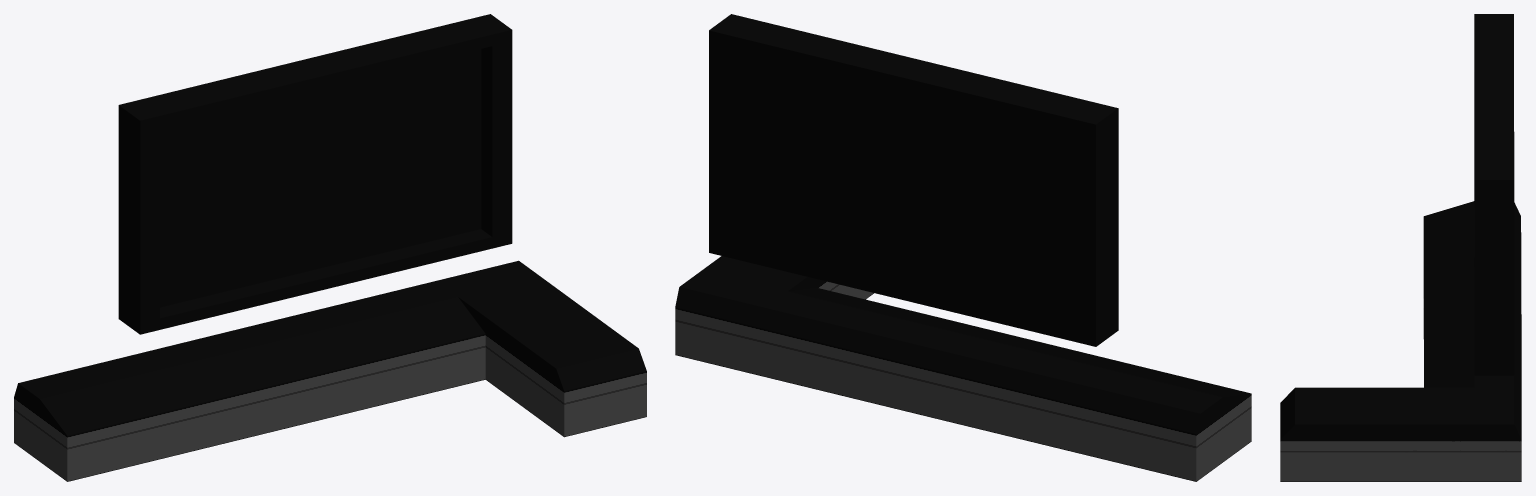
The model's file is colsoleroom4.fbx.
3 views of the same model, side by side, from view 1: azimuth 30°, elevation 25°; view 2: azimuth 150°, elevation 25°; view 3: azimuth 270°, elevation 25° (orthographic). The views are drawn at different scales.
Visible parts, largest first — view 1: console; view 2: console; view 3: console.
Part boxes in pixels (<box>): console: <box>14,14,646,481</box>; console: <box>675,14,1251,481</box>; console: <box>1280,14,1521,481</box>.
Size of the model in its own units: 338 by 204 by 154.
